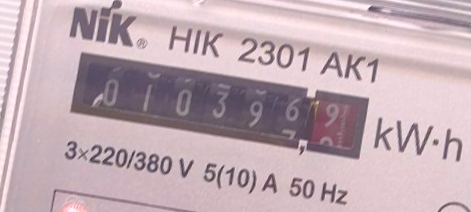0: (168, 83, 195, 119), (96, 73, 121, 108)
1: (137, 78, 154, 113)
3: (207, 86, 230, 121)
6: (279, 92, 304, 124)
9: (240, 95, 265, 130), (316, 99, 341, 131)
screen: (51, 36, 380, 174)
